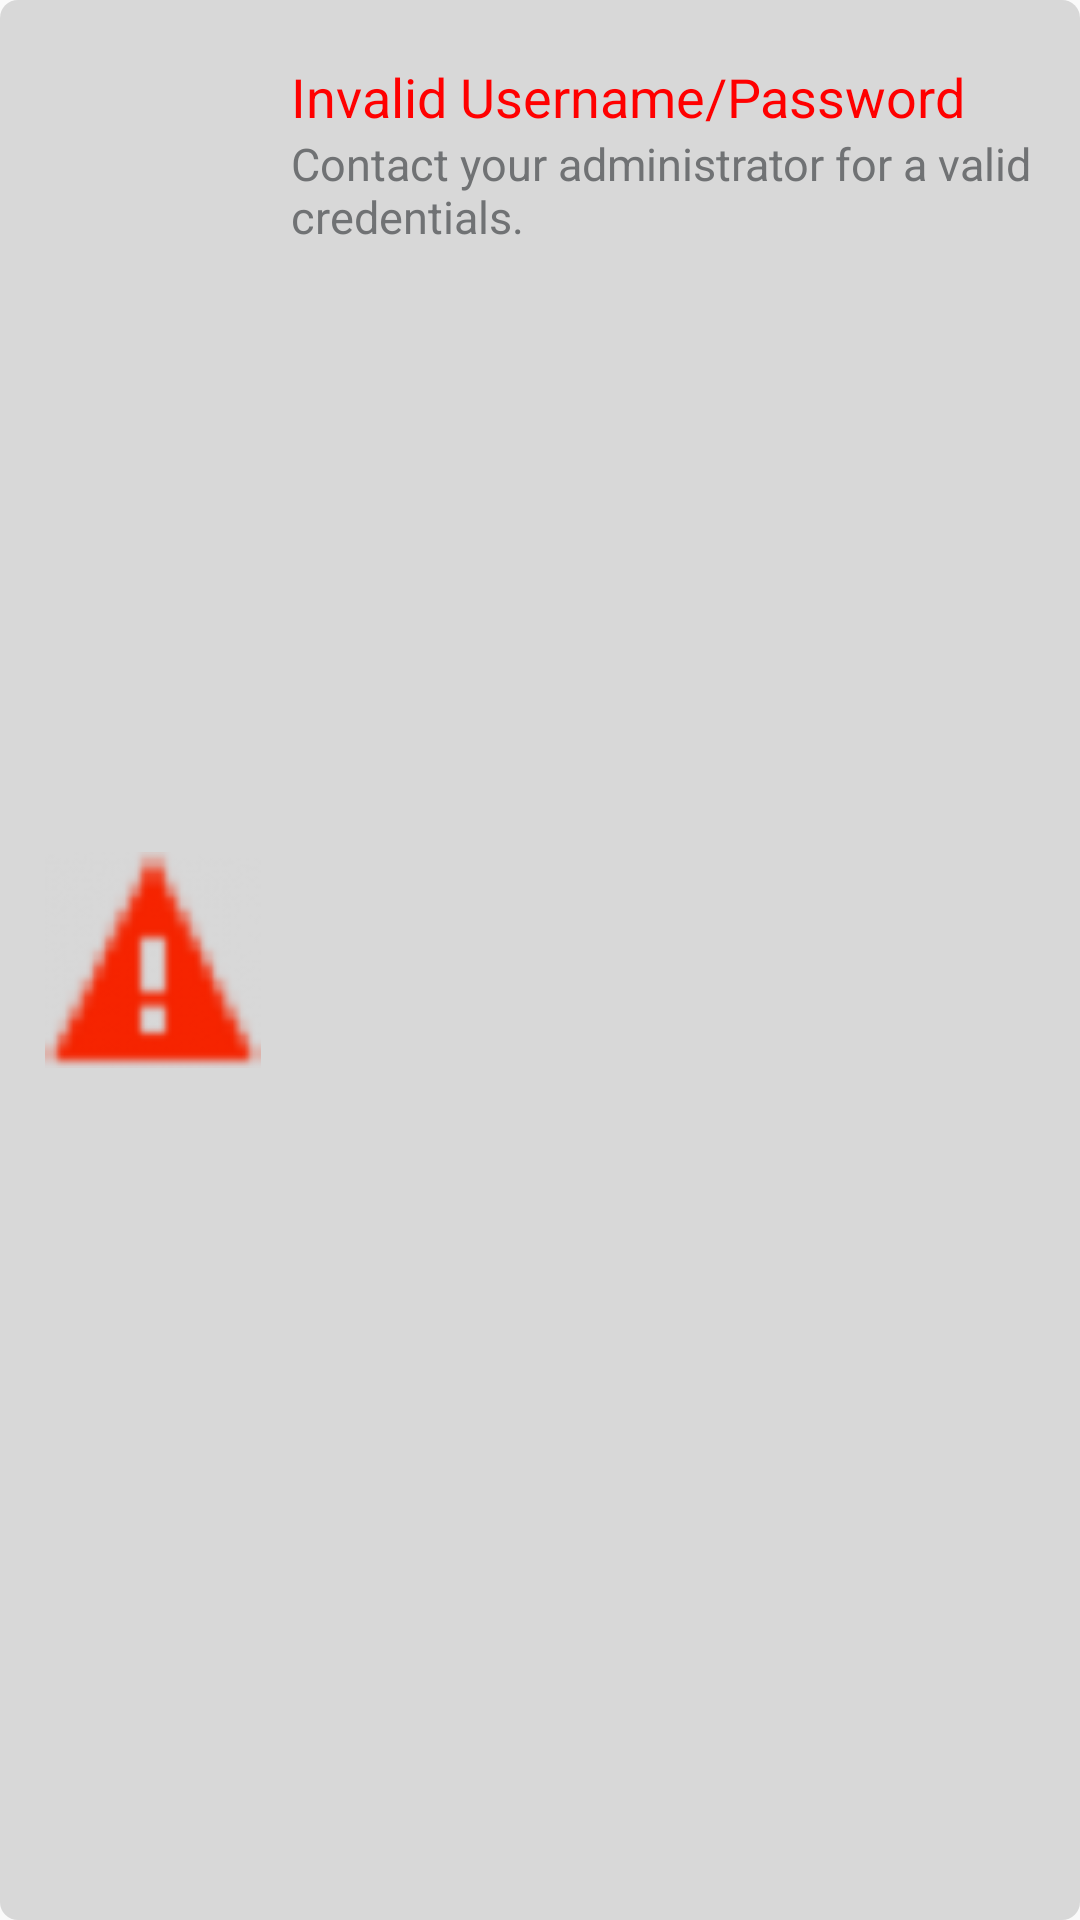

Where icons sit on this 1080w x 1920h app screen, as (x1, y1, x2, y2):
alert: (45, 855, 261, 1066)
